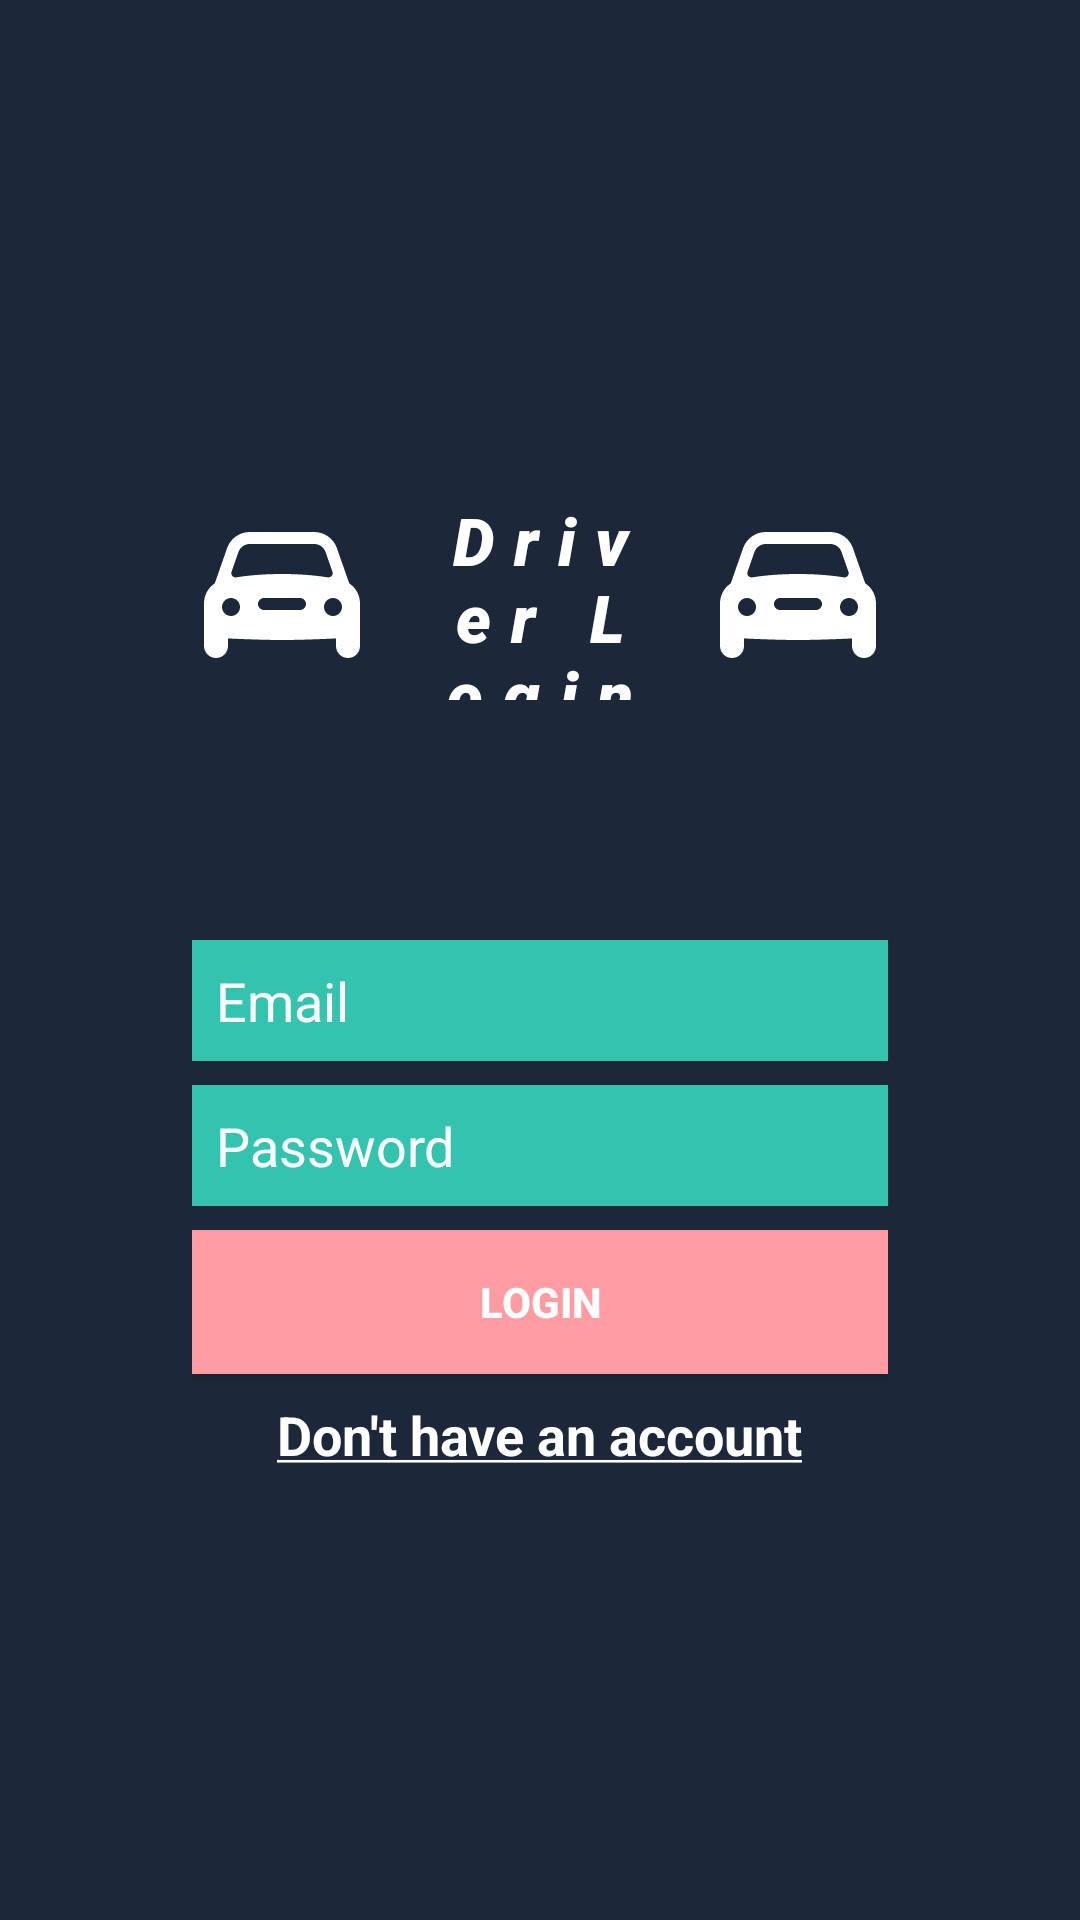

Screen size 1080px×1920px. Icon name, then its box in pixels as detection(x1, y1, x2, y2):
car: detection(204, 532, 360, 658), detection(720, 532, 876, 658)
